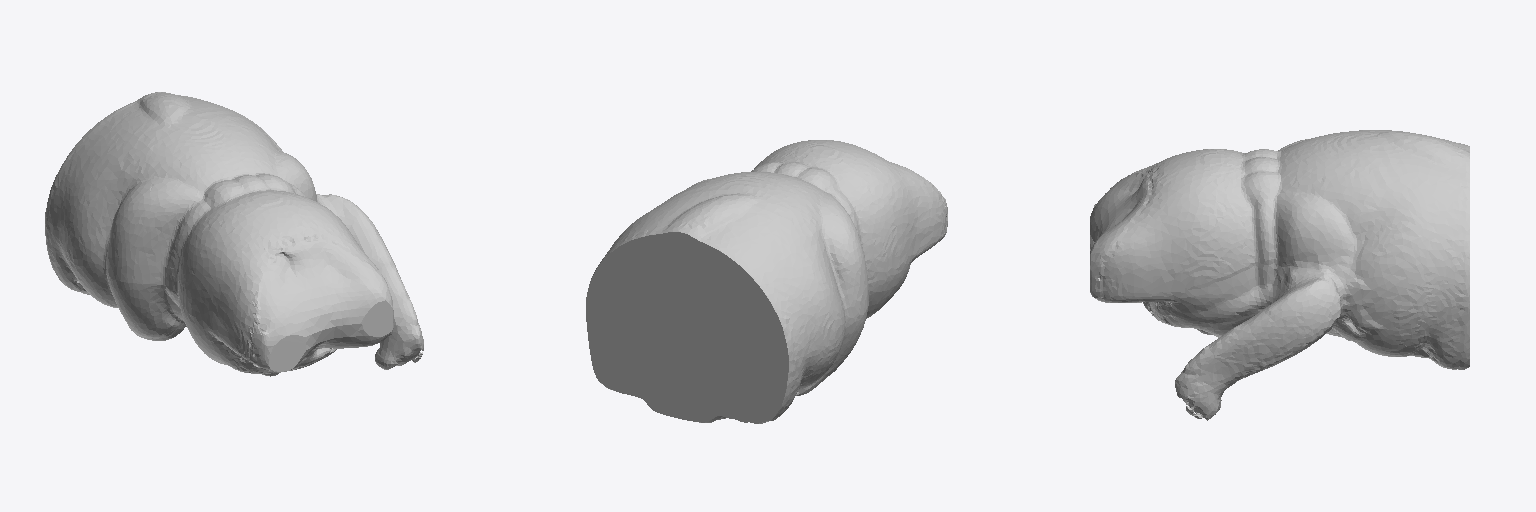
Rendered from 313444-neko_QEM_90pct.obj.
3 renders of one model, left to right at view 1: azimuth 30°, elevation 25°; view 2: azimuth 150°, elevation 25°; view 3: azimuth 270°, elevation 25°, orthographic.
Size of the model in its own units: 0.7586 by 0.6317 by 1.